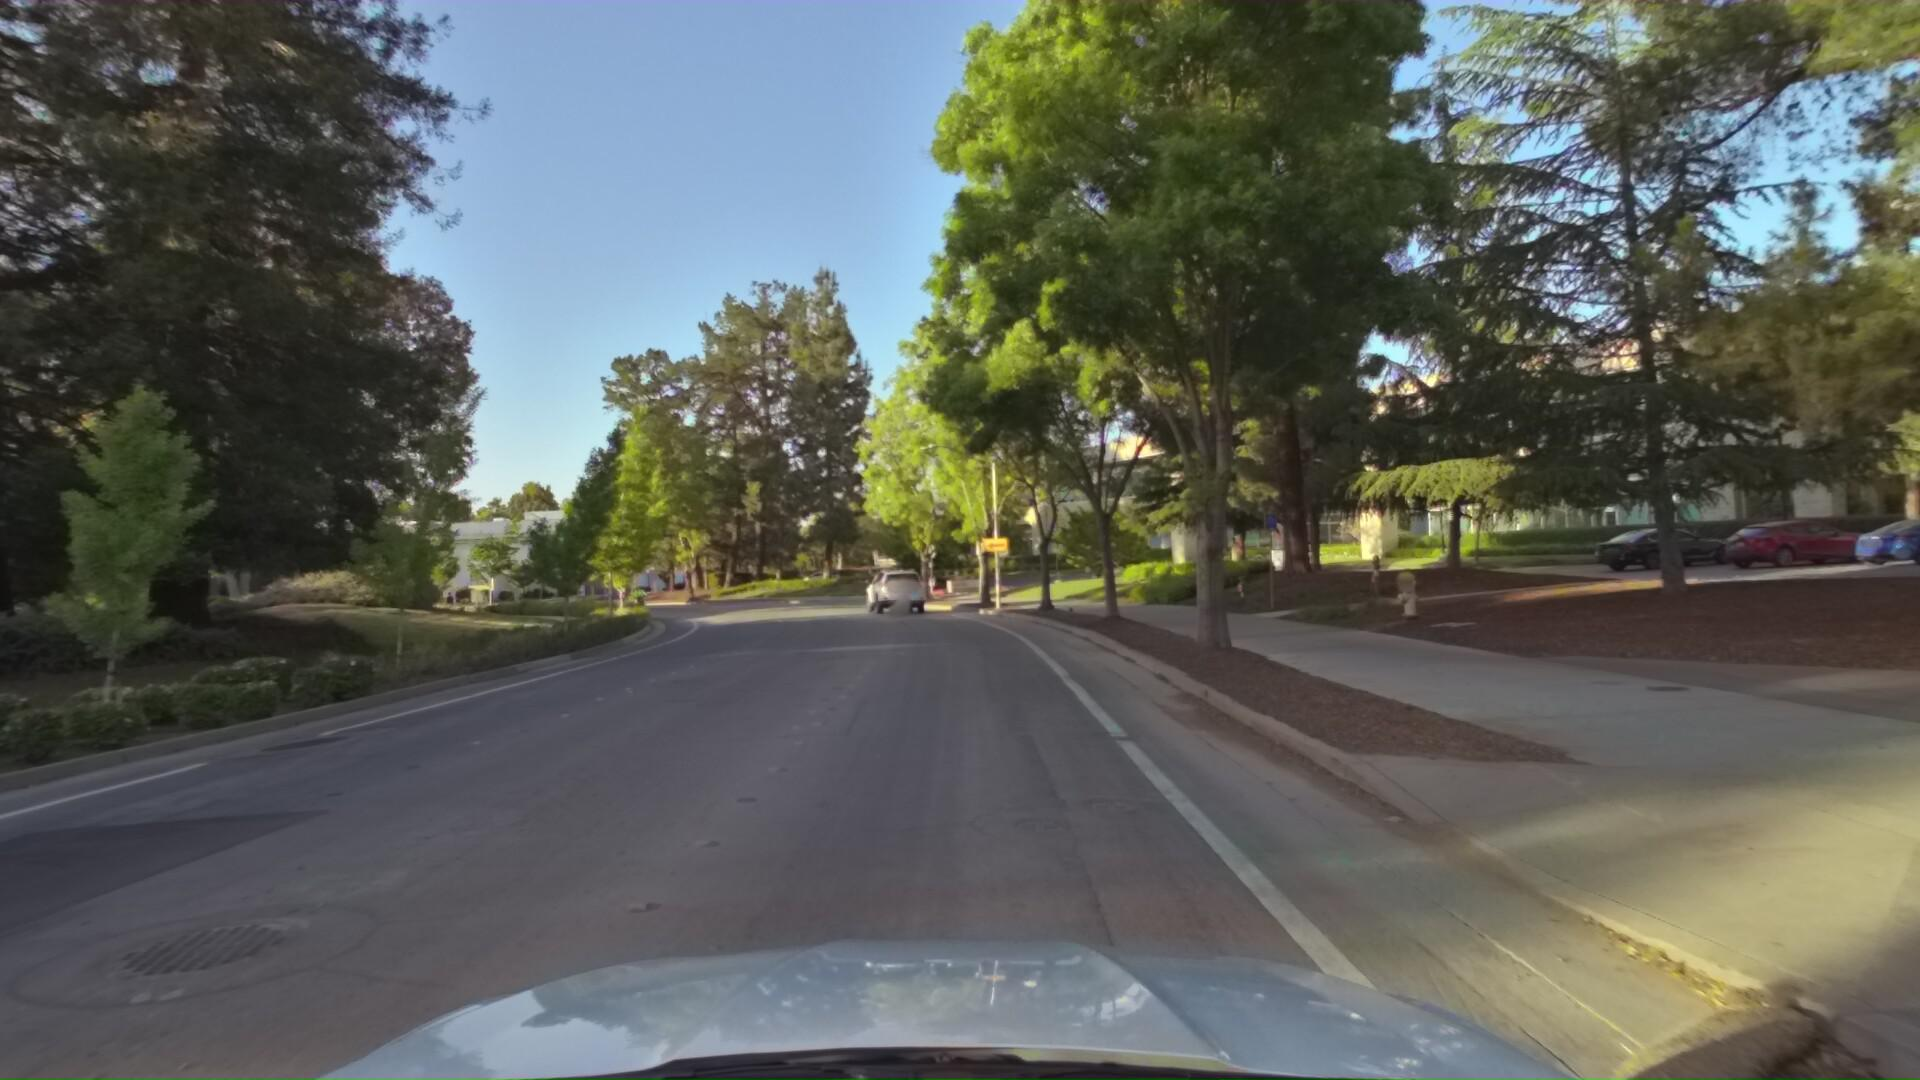bicycle: (626, 584, 650, 620), (434, 588, 458, 615)
car: (855, 563, 928, 616)
